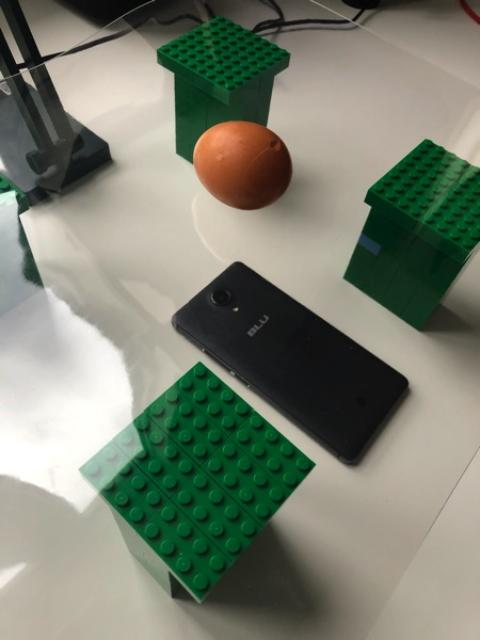Roto: (192, 119, 292, 210)
